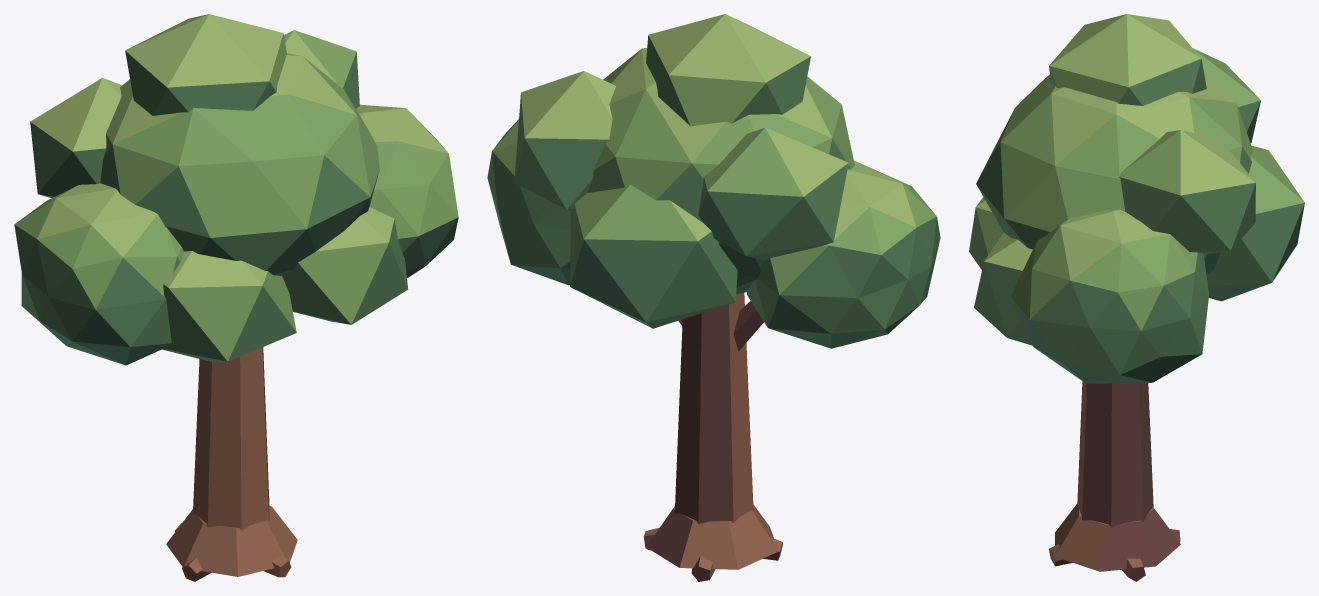
File: tree_basic.fbx
3 views of the same model, side by side, from view 1: azimuth 30°, elevation 25°; view 2: azimuth 150°, elevation 25°; view 3: azimuth 270°, elevation 25° (orthographic). The views are drawn at different scales.
Visible parts, largest first — view 1: tree_basic; view 2: tree_basic; view 3: tree_basic.
Boxes of the visible parts, box(x1,y1,x2,y2) form: tree_basic: box(14, 14, 458, 581); tree_basic: box(487, 14, 940, 581); tree_basic: box(969, 14, 1304, 581).
Bounding box in the file's own units: 1.41 × 1.78 × 1.01.
